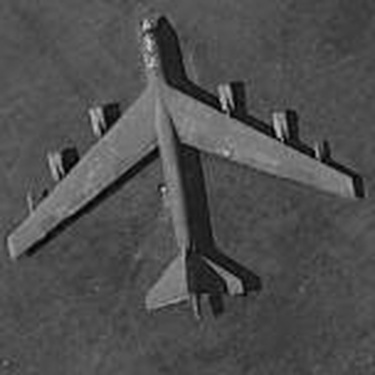airplane: (4, 13, 365, 329)
